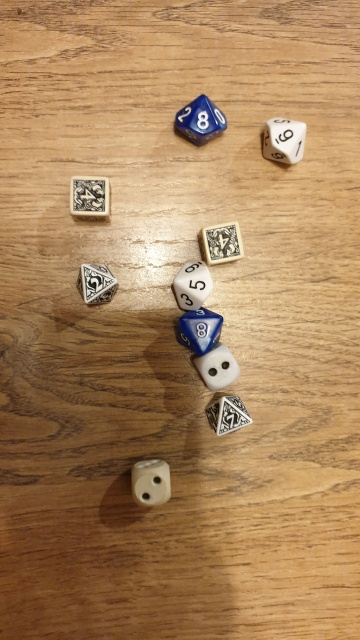d10-5: (167, 250, 218, 313)
d10-8: (170, 87, 235, 149), (173, 310, 224, 353)
d10-9: (261, 107, 312, 172)
d6-2: (124, 453, 181, 507), (192, 340, 244, 392)
d6p-4: (66, 174, 114, 224), (198, 221, 245, 265)
d8p-2: (69, 257, 124, 313)
d8p-7: (201, 390, 258, 443)
